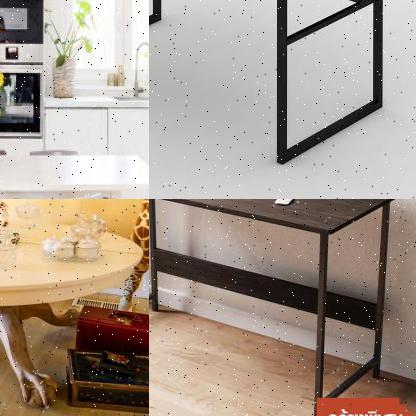table: (149, 199, 410, 415), (149, 0, 392, 168), (0, 216, 148, 414), (0, 146, 148, 198)
